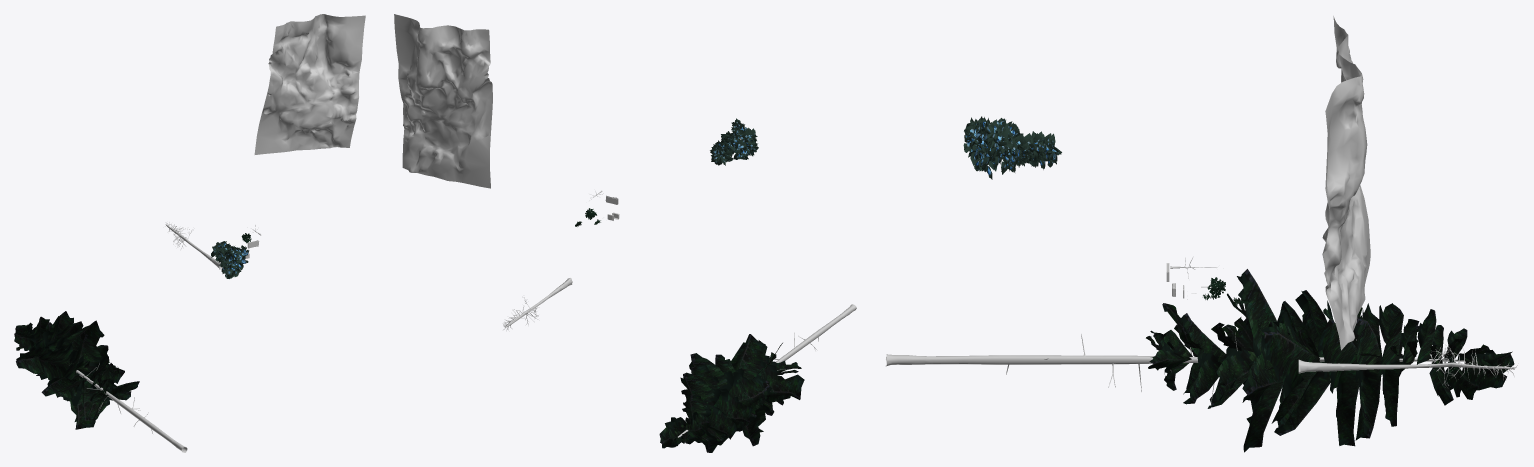
File: Small-treeobj.obj
The picture shows the model from 3 angles, left to right: view 1: azimuth 30°, elevation 25°; view 2: azimuth 150°, elevation 25°; view 3: azimuth 270°, elevation 25°; orthographic projection. The views are drawn at different scales.
Visible parts, largest first — view 1: Mesh_0160.rip, Mesh_0171.rip_Mesh_0171.rip.001, Mesh_0174.rip, Mesh_0133.rip; view 2: Mesh_0160.rip, Mesh_0171.rip_Mesh_0171.rip.001, Mesh_0174.rip, Mesh_0133.rip; view 3: Mesh_0171.rip_Mesh_0171.rip.001, Mesh_0160.rip, Mesh_0174.rip, Mesh_0133.rip.
Boxes of the visible parts, bbox=[...] form: Mesh_0160.rip: bbox=[254, 14, 365, 154]; Mesh_0171.rip_Mesh_0171.rip.001: bbox=[14, 311, 187, 452]; Mesh_0174.rip: bbox=[211, 241, 249, 278]; Mesh_0133.rip: bbox=[163, 222, 222, 269]; Mesh_0160.rip: bbox=[394, 14, 492, 188]; Mesh_0171.rip_Mesh_0171.rip.001: bbox=[659, 304, 856, 452]; Mesh_0174.rip: bbox=[710, 118, 758, 165]; Mesh_0133.rip: bbox=[503, 278, 572, 330]; Mesh_0171.rip_Mesh_0171.rip.001: bbox=[885, 269, 1514, 452]; Mesh_0160.rip: bbox=[1322, 16, 1370, 350]; Mesh_0174.rip: bbox=[963, 116, 1061, 179]; Mesh_0133.rip: bbox=[1298, 344, 1517, 387].
Bounding box in the file's own units: 237 × 220 × 200.
